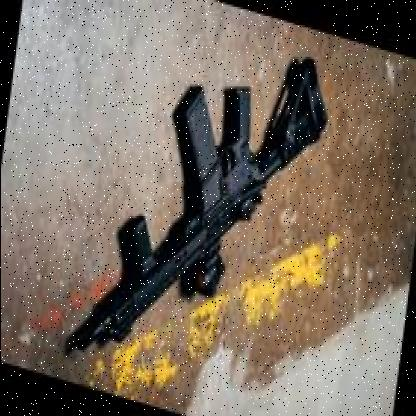rifle: (68, 0, 339, 416)
